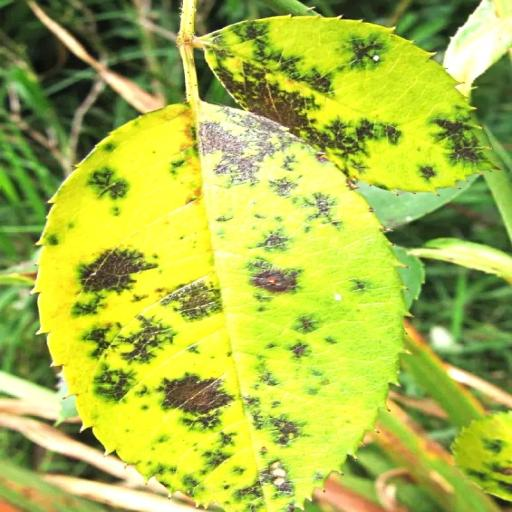downy_mildew: (37, 104, 404, 511), (200, 17, 492, 191), (445, 0, 511, 95), (454, 413, 511, 500), (410, 239, 511, 283)
